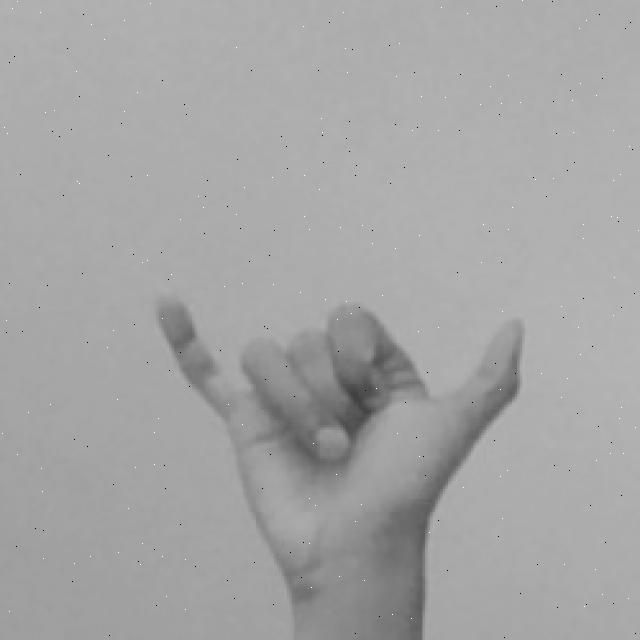Y: (151, 279, 527, 640)
